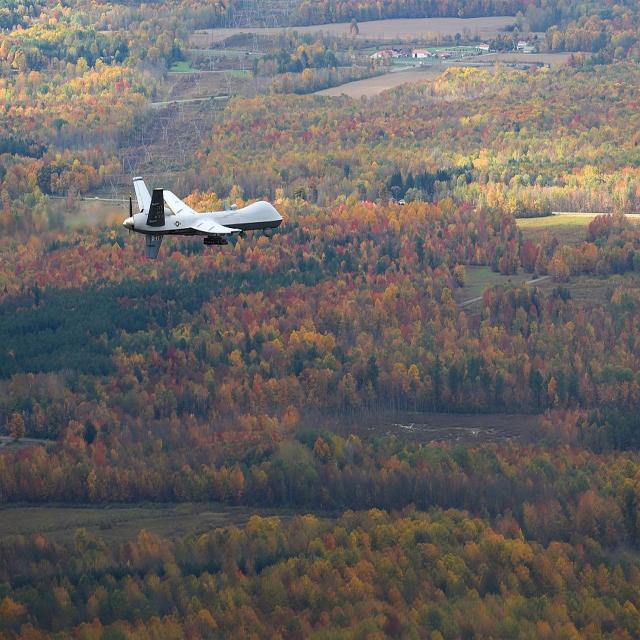MIL_Plane: (122, 176, 286, 260)
